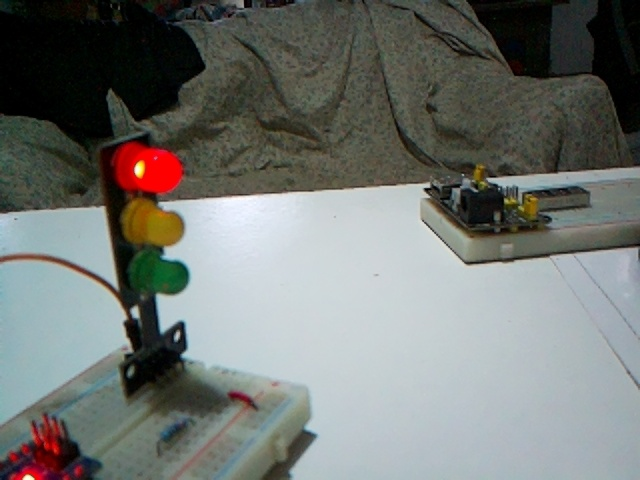traffic_light_red: (100, 131, 189, 396)
